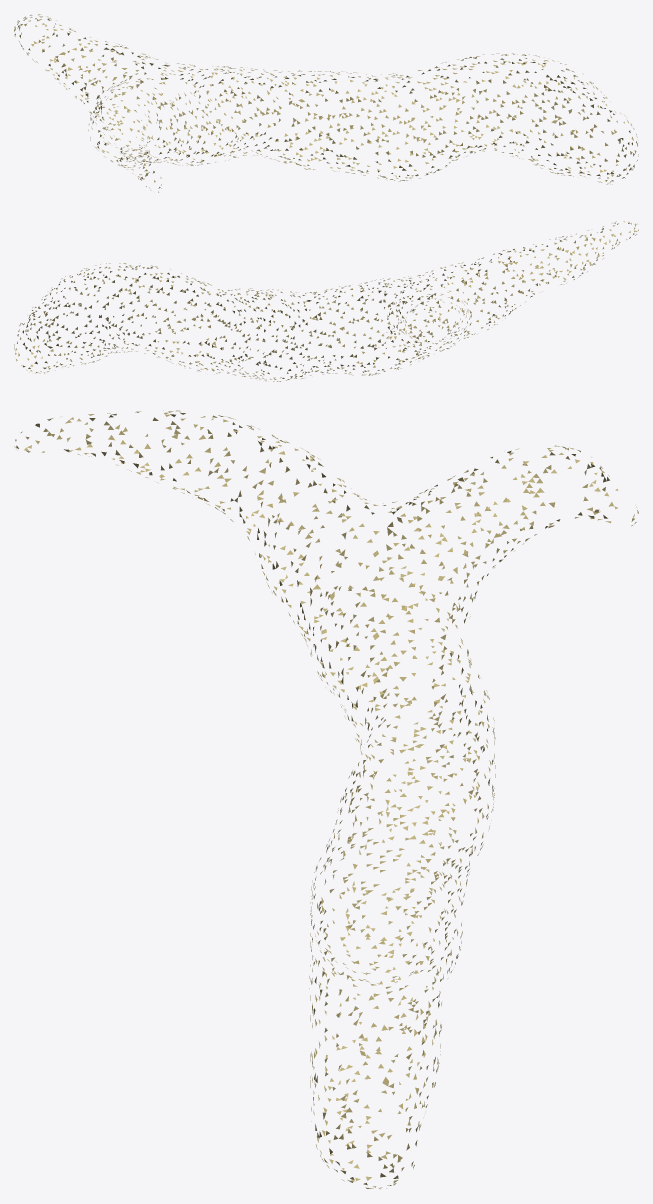
The model's file is morph_008.glb.
3 views of the same model, one above another, from view 1: azimuth 30°, elevation 25°; view 2: azimuth 150°, elevation 25°; view 3: azimuth 270°, elevation 25° (orthographic). The views are drawn at different scales.
Bounding box in the file's own units: 116 × 45.48 × 69.54.
